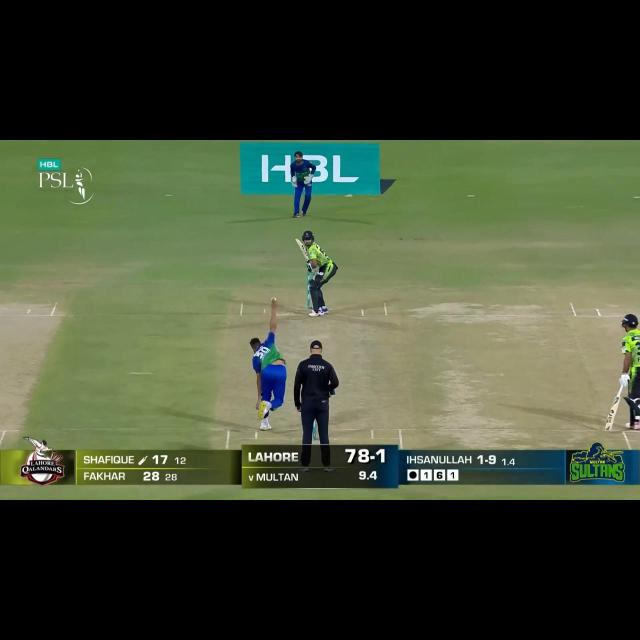bat: (604, 394, 623, 431), (294, 238, 311, 260)
toe: (602, 422, 615, 434), (294, 237, 300, 244)
